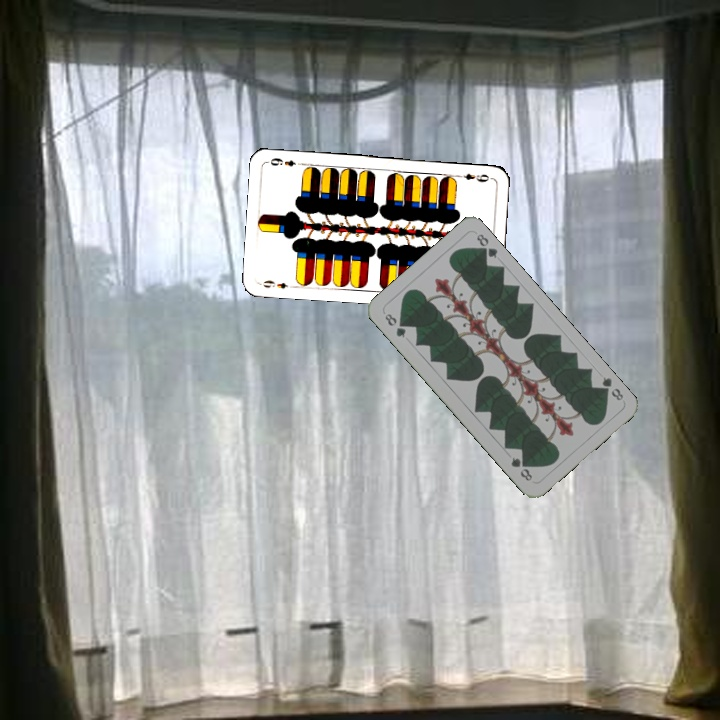E9: (453, 170, 493, 185), (257, 276, 297, 291)
G8: (596, 373, 626, 403), (381, 309, 409, 340)
